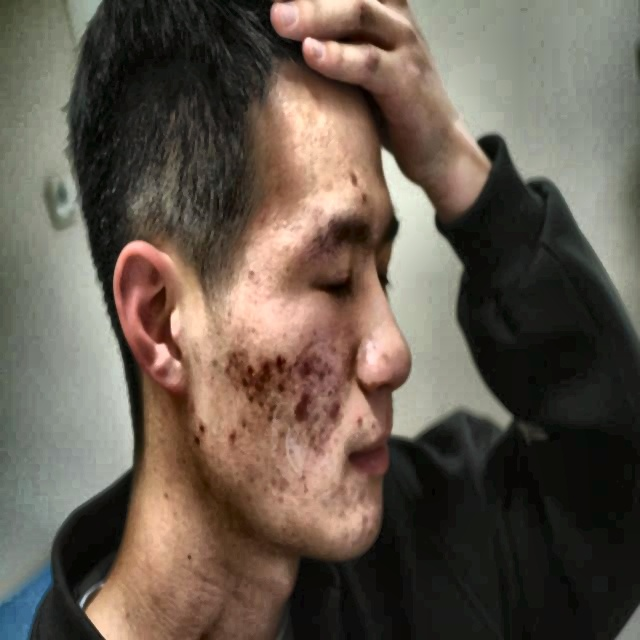papule: (300, 467, 326, 506), (248, 371, 272, 410), (320, 402, 353, 426), (345, 402, 368, 436), (292, 350, 320, 376), (304, 418, 323, 451), (314, 354, 338, 380), (221, 351, 239, 382), (227, 422, 245, 452), (256, 351, 276, 377), (275, 350, 298, 372), (272, 467, 290, 493), (266, 398, 278, 432), (234, 407, 250, 432), (296, 390, 310, 418), (192, 416, 209, 434), (274, 378, 290, 396), (190, 391, 201, 416), (235, 330, 252, 346), (242, 340, 253, 364), (358, 185, 370, 205), (342, 170, 353, 188), (246, 363, 253, 382)
